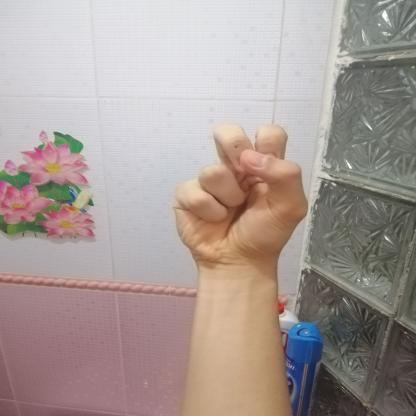QAAF: (153, 112, 328, 278)
